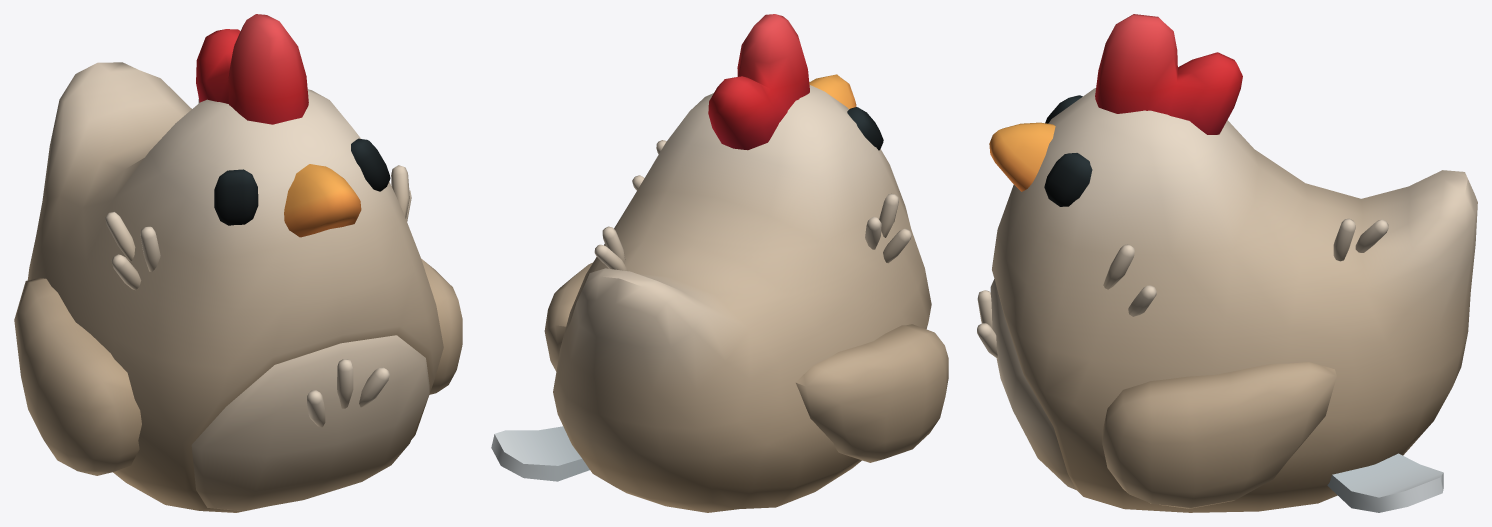
The model's file is chicken_plushie_A.glb.
The picture shows the model from 3 angles, left to right: view 1: azimuth 30°, elevation 25°; view 2: azimuth 150°, elevation 25°; view 3: azimuth 270°, elevation 25°; orthographic projection. The views are drawn at different scales.
Parts seen in each view (by area): view 1: chicken_plushie_A; view 2: chicken_plushie_A; view 3: chicken_plushie_A.
Boxes of the visible parts, box(x1,y1,x2,y2) form: chicken_plushie_A: box(14, 14, 462, 512); chicken_plushie_A: box(491, 14, 948, 512); chicken_plushie_A: box(977, 14, 1477, 512).
Size of the model in its own units: 0.8255 by 0.9123 by 0.9187.
Materials: 1 (1 with a texture image).
